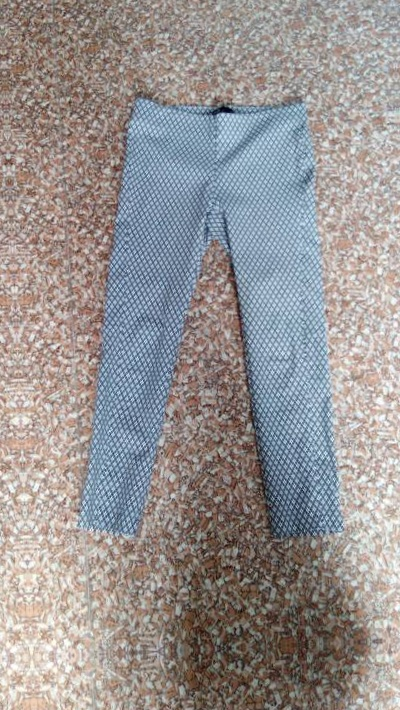Pants: (50, 50, 379, 560)
